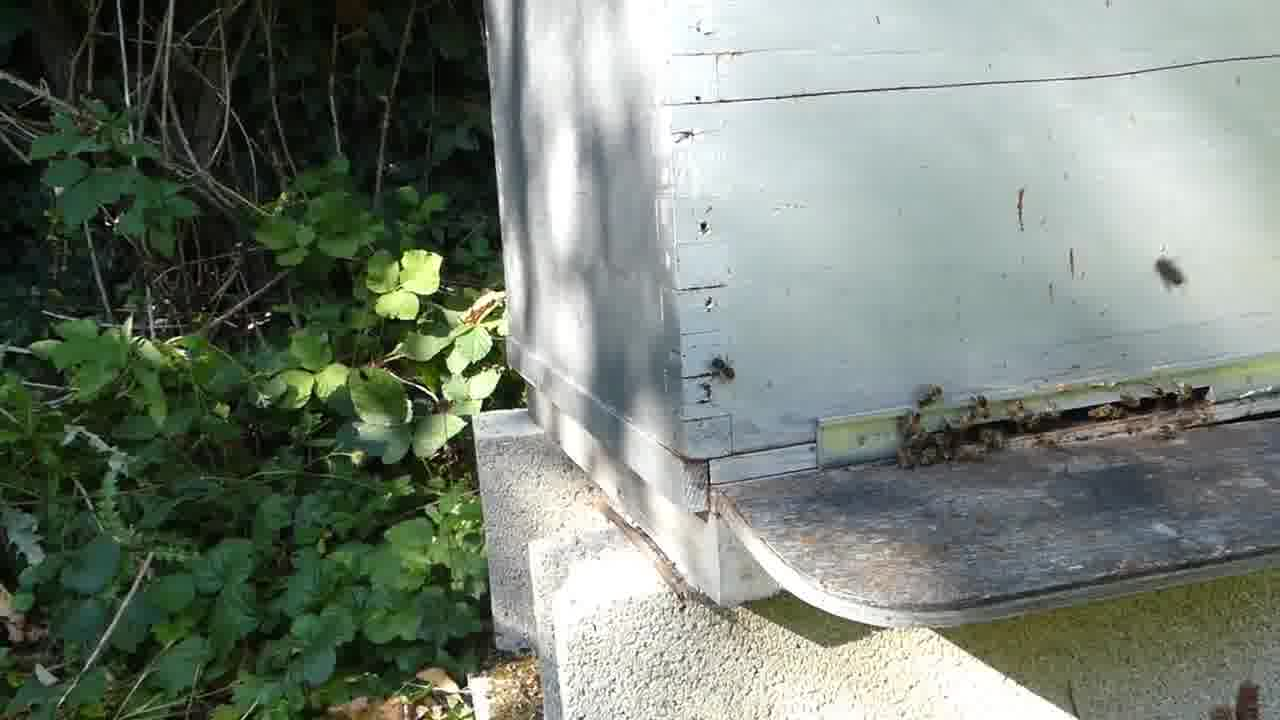bee: (700, 355, 743, 381)
